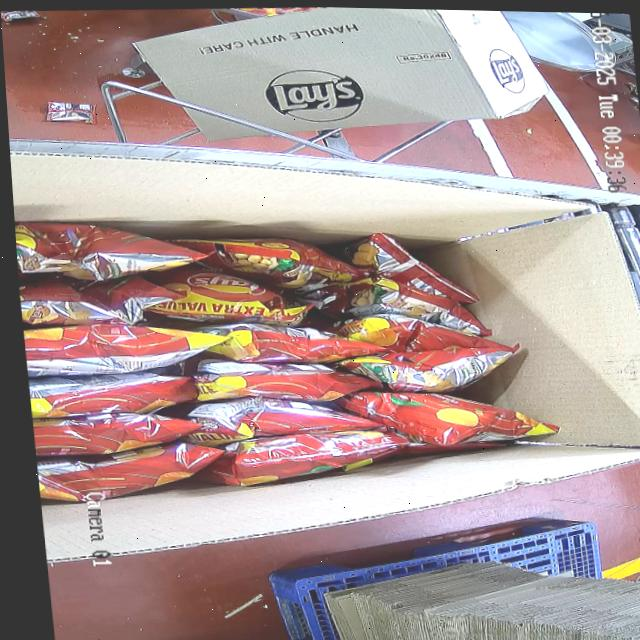MASALA: (14, 204, 563, 514)
